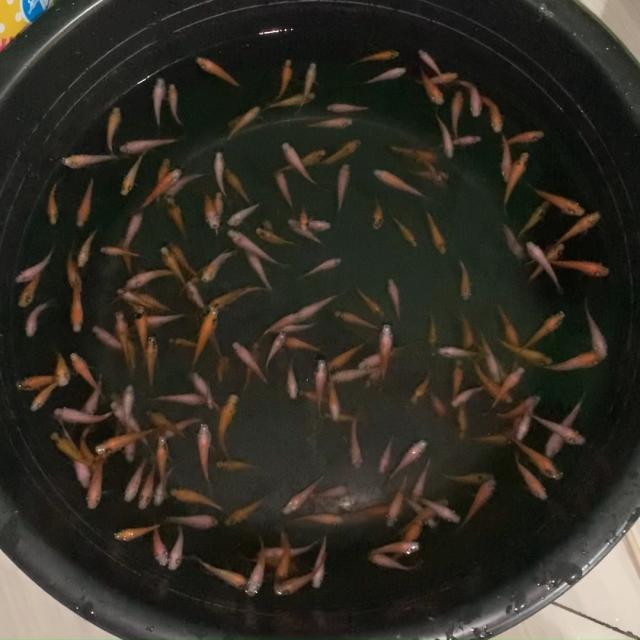nila: (544, 393, 592, 456), (508, 432, 564, 482), (392, 492, 452, 538), (58, 419, 96, 491), (526, 406, 590, 444), (486, 364, 530, 419), (516, 308, 566, 355), (229, 230, 289, 269), (548, 208, 603, 250), (471, 358, 516, 409), (526, 240, 566, 296), (460, 480, 498, 536), (388, 520, 426, 575), (387, 436, 432, 482), (281, 140, 324, 188), (502, 150, 532, 217), (196, 55, 247, 94), (526, 182, 588, 214), (137, 166, 183, 209), (193, 555, 250, 589), (68, 352, 110, 398), (278, 554, 326, 594), (418, 490, 468, 528), (232, 339, 268, 391), (170, 484, 228, 516), (498, 335, 555, 367), (188, 306, 218, 366), (512, 452, 548, 502), (111, 400, 148, 448), (545, 254, 612, 280), (11, 250, 56, 288), (582, 299, 609, 362), (528, 241, 568, 283), (486, 392, 546, 420), (282, 474, 322, 515), (82, 446, 108, 509), (252, 537, 322, 560), (516, 197, 554, 239), (536, 350, 612, 371), (96, 428, 151, 457), (294, 290, 347, 320), (143, 406, 188, 441), (358, 340, 414, 368), (328, 335, 370, 372), (48, 435, 98, 466), (161, 166, 208, 198), (117, 150, 147, 200), (376, 168, 426, 198), (158, 246, 192, 290), (222, 496, 266, 530), (494, 303, 524, 352), (242, 539, 268, 595), (120, 133, 183, 156), (245, 238, 271, 293), (202, 247, 237, 286), (220, 394, 240, 462), (166, 194, 193, 244), (310, 528, 332, 589), (54, 150, 121, 170), (468, 432, 512, 462), (117, 286, 167, 312), (332, 308, 382, 334), (368, 550, 422, 574), (168, 238, 202, 276), (272, 532, 292, 596), (323, 135, 363, 167), (196, 310, 225, 354), (74, 172, 95, 232), (432, 112, 457, 162), (120, 456, 146, 504), (278, 148, 326, 174), (82, 370, 105, 424), (406, 368, 437, 408), (308, 358, 329, 417), (384, 142, 440, 164), (221, 166, 255, 202), (108, 268, 144, 302), (416, 67, 450, 103), (227, 104, 261, 140), (406, 496, 439, 533), (323, 363, 384, 383), (476, 93, 504, 136), (165, 511, 222, 532), (264, 91, 316, 114), (480, 332, 503, 384), (278, 509, 348, 526), (348, 46, 402, 68), (296, 60, 318, 114), (87, 324, 126, 354), (51, 406, 115, 424), (25, 296, 51, 340), (122, 268, 174, 290), (110, 520, 162, 542), (190, 372, 220, 410), (388, 212, 418, 250), (144, 389, 211, 406), (388, 474, 409, 528), (297, 256, 344, 280), (177, 264, 212, 296), (246, 555, 302, 575), (354, 283, 385, 319), (76, 222, 100, 268), (500, 216, 524, 262), (166, 78, 188, 128), (436, 342, 486, 364), (136, 288, 178, 314), (104, 102, 124, 156), (68, 272, 86, 332), (197, 420, 212, 492), (112, 310, 130, 369), (18, 266, 43, 308), (287, 217, 322, 247), (243, 338, 263, 390), (452, 382, 492, 408), (412, 454, 432, 506), (454, 79, 482, 116), (118, 210, 142, 253), (424, 213, 448, 256), (45, 174, 64, 228), (29, 378, 58, 413), (224, 282, 268, 305), (516, 396, 538, 442), (16, 371, 64, 392), (346, 416, 364, 472), (498, 130, 516, 186), (153, 153, 173, 203), (440, 470, 502, 486), (207, 284, 246, 309), (136, 462, 154, 516), (335, 162, 353, 216), (198, 186, 220, 230), (323, 373, 343, 421), (383, 276, 403, 324), (360, 66, 408, 86), (422, 156, 450, 190), (278, 337, 328, 356), (262, 311, 300, 336), (152, 71, 168, 130), (135, 305, 151, 364), (96, 240, 148, 258), (261, 330, 287, 366), (164, 417, 204, 440), (310, 481, 350, 504), (282, 354, 302, 400), (252, 228, 300, 247), (226, 200, 262, 225), (154, 466, 174, 511), (154, 434, 167, 502), (166, 526, 186, 570), (418, 49, 446, 80), (80, 423, 100, 466), (449, 356, 469, 399), (378, 431, 397, 476), (380, 322, 394, 383), (500, 129, 547, 147), (274, 58, 294, 100), (442, 130, 480, 152), (50, 346, 70, 387), (121, 420, 138, 467), (276, 170, 294, 214), (145, 335, 159, 390), (152, 522, 168, 570), (451, 87, 466, 138), (138, 314, 188, 329), (364, 356, 386, 389), (123, 336, 138, 384), (216, 457, 261, 473), (277, 320, 322, 336), (456, 258, 472, 303), (121, 384, 135, 434), (366, 542, 424, 554), (212, 189, 225, 241), (458, 310, 473, 355), (508, 412, 525, 450), (408, 168, 451, 183), (417, 70, 459, 85), (212, 148, 225, 195), (322, 410, 360, 426), (223, 114, 266, 128), (187, 281, 206, 312), (488, 360, 514, 382), (369, 192, 384, 230), (66, 248, 80, 288), (306, 118, 356, 129), (426, 392, 447, 418), (120, 242, 136, 276), (214, 352, 230, 386), (424, 313, 439, 348), (299, 217, 333, 232), (323, 103, 374, 113), (456, 402, 468, 444), (166, 335, 198, 348), (262, 217, 276, 246), (298, 392, 330, 404), (206, 382, 215, 414), (300, 202, 308, 230)
